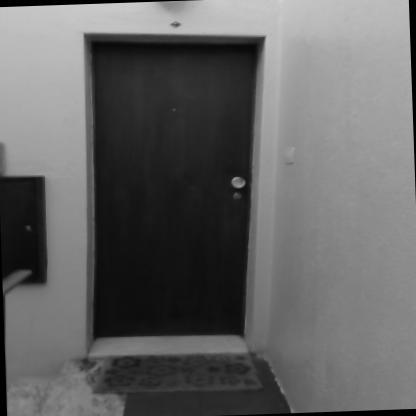closed: (66, 13, 289, 356)
